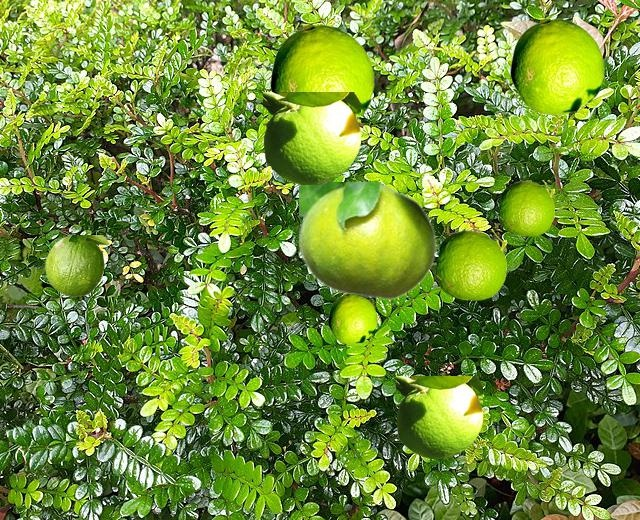dalandan: (299, 182, 436, 299), (270, 24, 373, 118), (510, 18, 603, 114), (263, 92, 359, 183), (396, 376, 481, 457), (436, 229, 505, 299), (45, 235, 108, 295), (499, 180, 553, 235), (328, 293, 376, 343)
